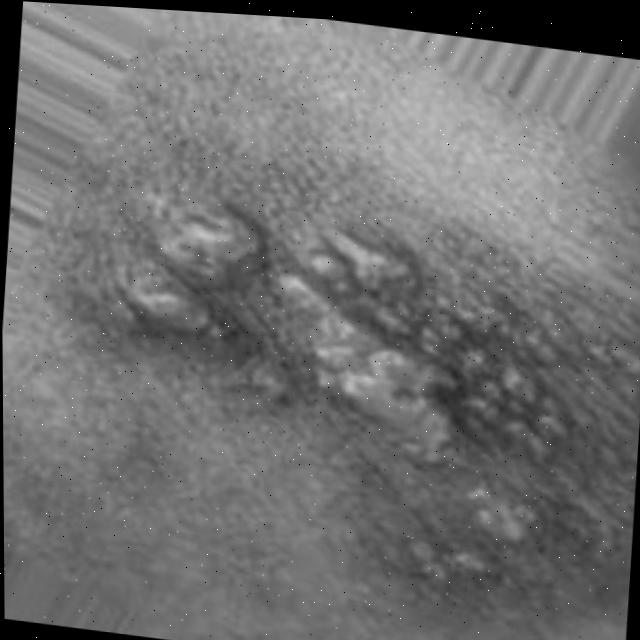Shingles: (100, 189, 635, 621)
